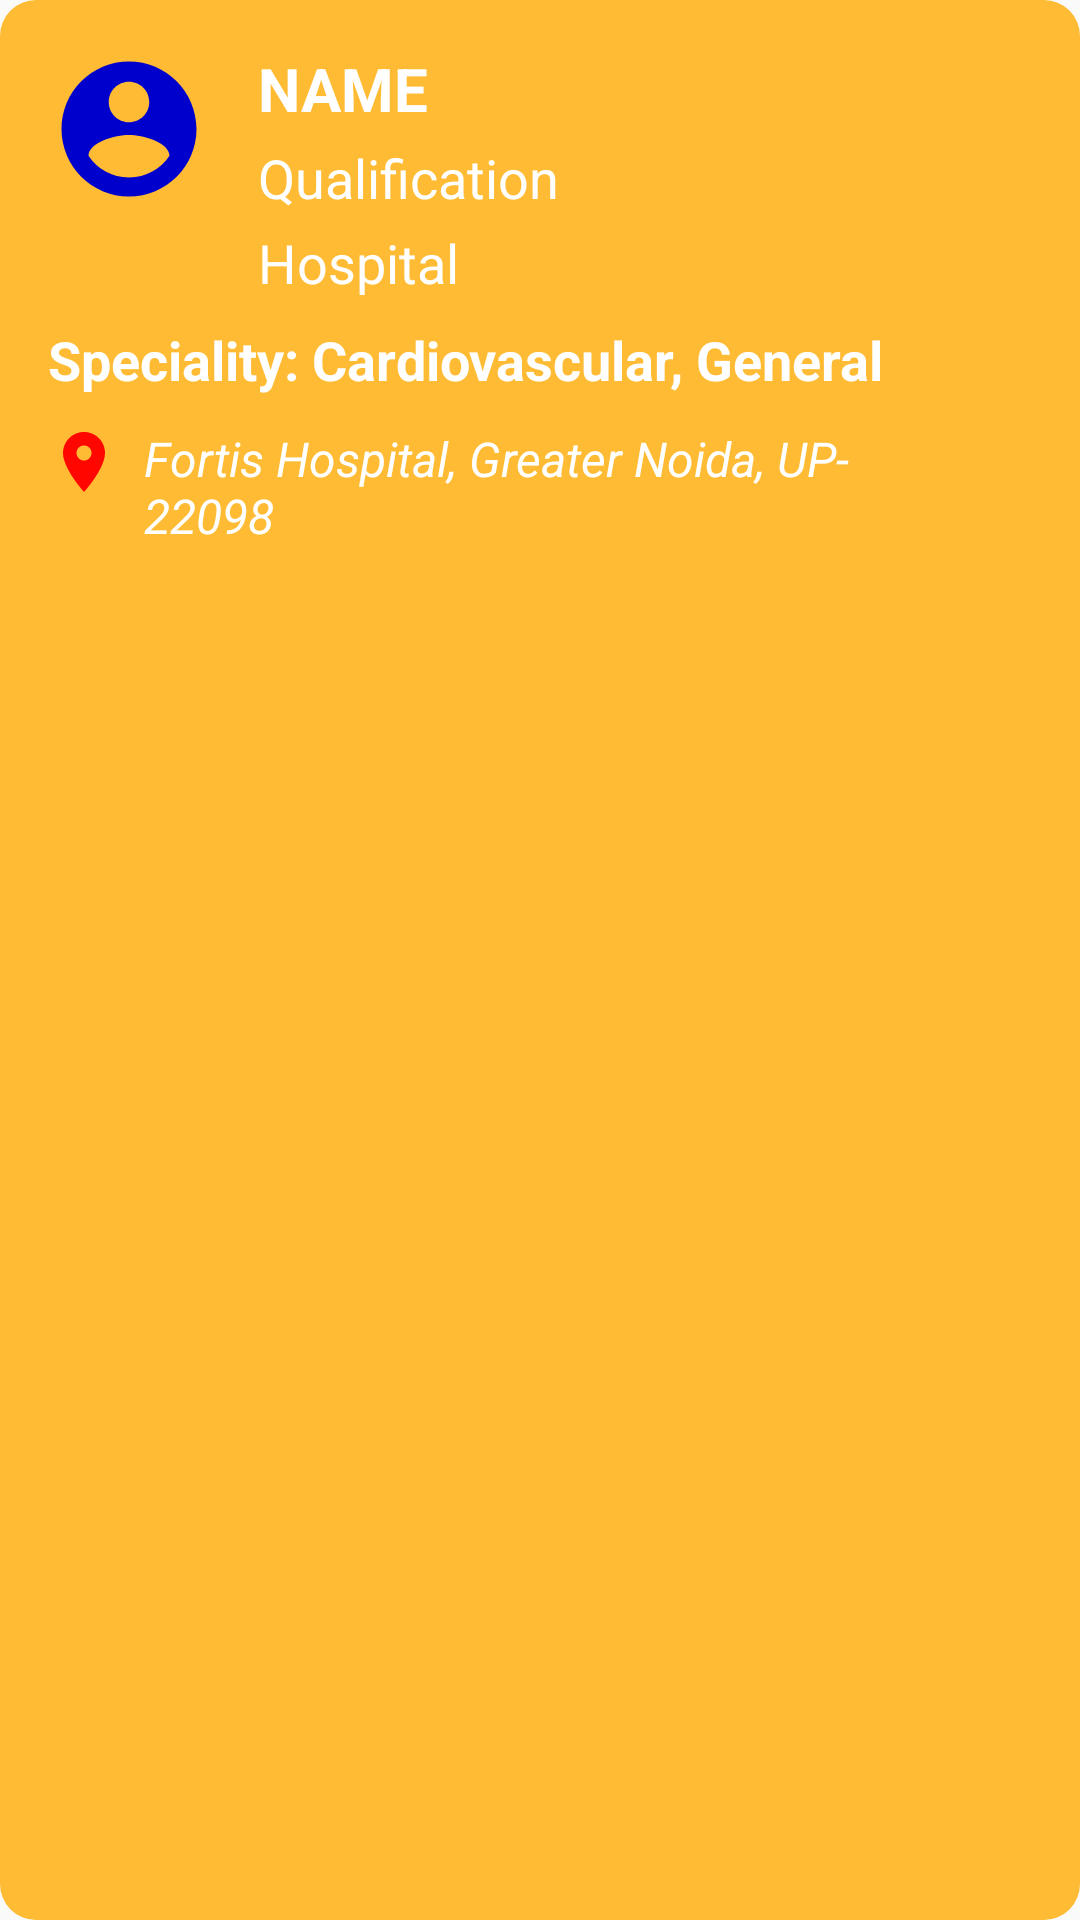

Icons on this 1080x1920 Android screen, each with the point to tap as [x,y]:
account circle: [129,129]
location: [84,462]
